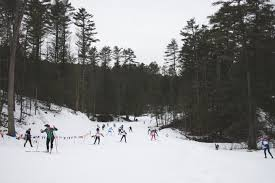skier: (36, 122, 62, 157)
